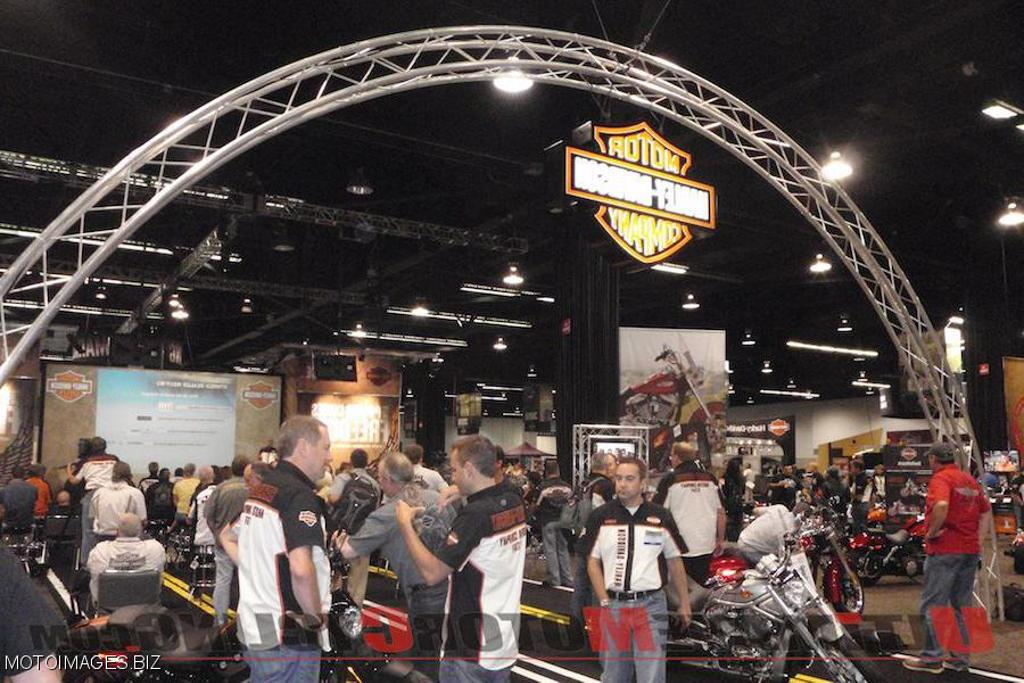face: (305, 435, 334, 479), (451, 454, 473, 495), (616, 467, 640, 500), (379, 469, 397, 499), (668, 447, 681, 467), (603, 458, 616, 476), (684, 369, 702, 382), (902, 446, 917, 460), (1011, 493, 1023, 507), (929, 455, 935, 470), (808, 468, 817, 478), (784, 466, 793, 475), (851, 465, 859, 475), (1002, 454, 1009, 465), (878, 466, 886, 475), (325, 467, 332, 476), (824, 471, 830, 479)
